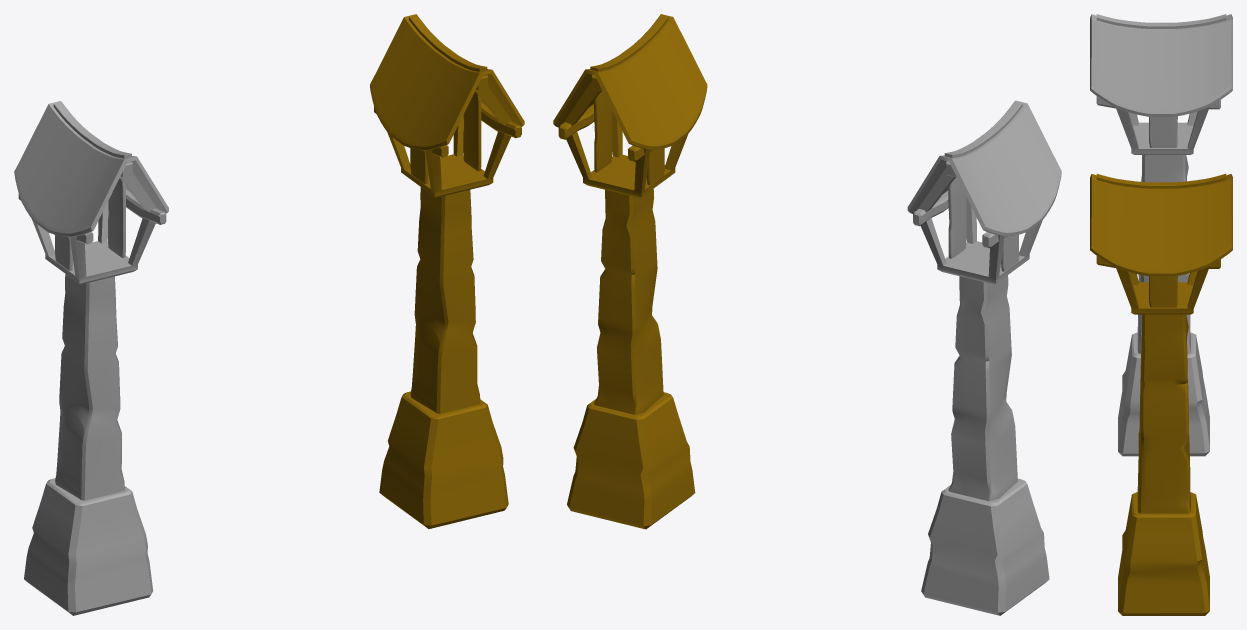
The model's file is 3dm_Lantern_01a - Copia.fbx.
3 renders of one model, left to right at view 1: azimuth 30°, elevation 25°; view 2: azimuth 150°, elevation 25°; view 3: azimuth 270°, elevation 25°, orthographic. The views are drawn at different scales.
Parts seen in each view (by area): view 1: lantern1, lantern; view 2: lantern, lantern1; view 3: lantern1, lantern.
Boxes of the visible parts, left/top/right/bottom form: lantern1: left=370, top=14, right=524, bottom=528; lantern: left=14, top=101, right=168, bottom=615; lantern: left=907, top=100, right=1061, bottom=615; lantern1: left=553, top=14, right=707, bottom=529; lantern1: left=1090, top=174, right=1232, bottom=615; lantern: left=1090, top=14, right=1232, bottom=456.
Size of the model in its own units: 299 by 289 by 88.03.
